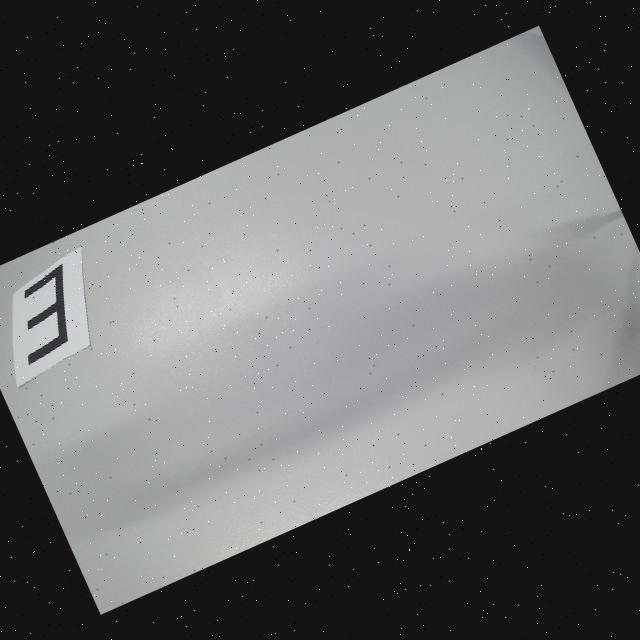FAKE: (0, 262, 95, 365)
